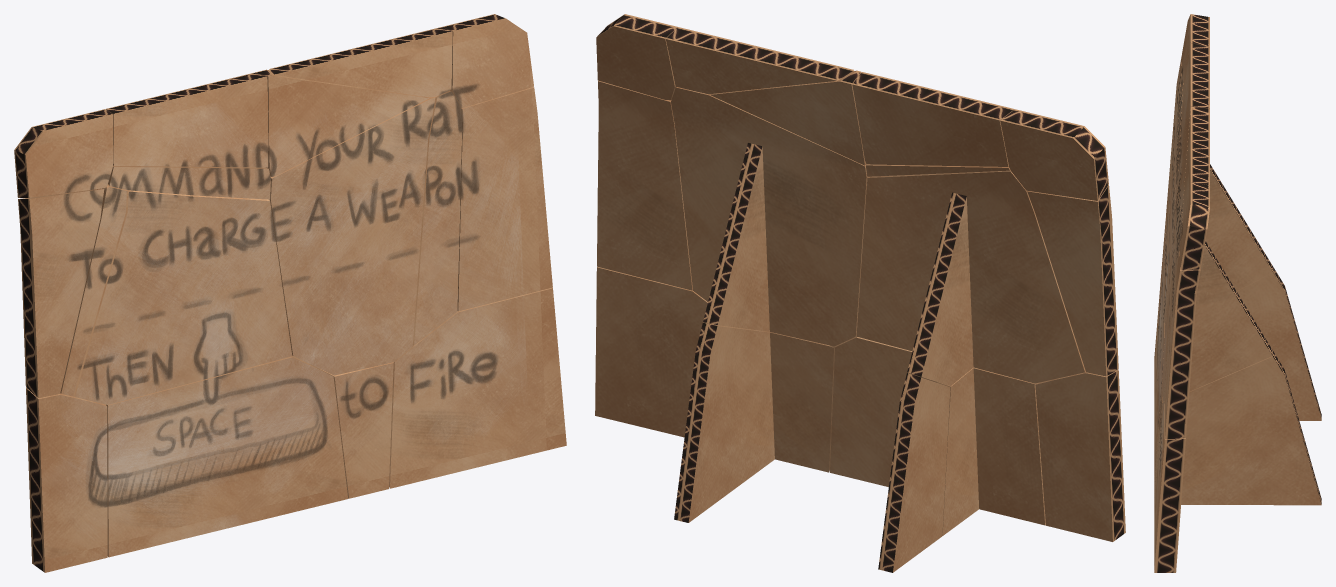
File: Carboard Weapon Tut Fractured.fbx
The picture shows the model from 3 angles, left to right: view 1: azimuth 30°, elevation 25°; view 2: azimuth 150°, elevation 25°; view 3: azimuth 270°, elevation 25°; orthographic projection. The views are drawn at different scales.
Visible parts, largest first — view 1: Cardboard Cut-Out.004_cell.011, Cardboard Cut-Out.004_cell.014, Cardboard Cut-Out.004_cell.012, Cardboard Cut-Out.004_cell.008, Cardboard Cut-Out.004_cell.015, Cardboard Cut-Out.004_cell.004, Cardboard Cut-Out.004_cell.001, Cardboard Cut-Out.004_cell.009, Cardboard Cut-Out.004_cell.003, Cardboard Cut-Out.004_cell.006, Cardboard Cut-Out.004_cell.002, Cardboard Cut-Out.004_cell.005 (+4 smaller); view 2: Cardboard Cut-Out.004_cell.014, Cardboard Cut-Out.004_cell.012, Cardboard Cut-Out.004_cell.011, Cardboard Cut-Out.004_cell.010, Cardboard Cut-Out.004_cell.015, Cardboard Cut-Out.004_cell.008, Cardboard Cut-Out.004_cell.004, Cardboard Cut-Out.004_cell.009, Cardboard Cut-Out.004_cell.001, Cardboard Cut-Out.004_cell, Cardboard Cut-Out.004_cell.002, Cardboard Cut-Out.004_cell.005 (+3 smaller); view 3: Cardboard Cut-Out.004_cell.010, Cardboard Cut-Out.004_cell.012, Cardboard Cut-Out.004_cell.014, Cardboard Cut-Out.004_cell, Cardboard Cut-Out.004_cell.015, Cardboard Cut-Out.004_cell.008, Cardboard Cut-Out.004_cell.013, Cardboard Cut-Out.004_cell.009, Cardboard Cut-Out.004_cell.002, Cardboard Cut-Out.004_cell.011, Cardboard Cut-Out.004_cell.005, Cardboard Cut-Out.004_cell.003 (+4 smaller).
Boxes of the visible parts, x1,y1,x2,y2 form: Cardboard Cut-Out.004_cell.011: [106, 356, 348, 557]; Cardboard Cut-Out.004_cell.014: [73, 188, 292, 404]; Cardboard Cut-Out.004_cell.012: [269, 93, 442, 375]; Cardboard Cut-Out.004_cell.008: [390, 288, 566, 488]; Cardboard Cut-Out.004_cell.015: [457, 87, 552, 311]; Cardboard Cut-Out.004_cell.004: [26, 388, 107, 572]; Cardboard Cut-Out.004_cell.001: [18, 189, 104, 398]; Cardboard Cut-Out.004_cell.009: [106, 72, 268, 167]; Cardboard Cut-Out.004_cell.003: [255, 69, 429, 176]; Cardboard Cut-Out.004_cell.006: [414, 90, 462, 344]; Cardboard Cut-Out.004_cell.002: [269, 27, 452, 97]; Cardboard Cut-Out.004_cell.005: [14, 109, 113, 197]; Cardboard Cut-Out.004_cell.014: [856, 171, 1085, 385]; Cardboard Cut-Out.004_cell.012: [671, 87, 869, 346]; Cardboard Cut-Out.004_cell.011: [829, 336, 1045, 535]; Cardboard Cut-Out.004_cell.010: [674, 322, 833, 522]; Cardboard Cut-Out.004_cell.015: [597, 80, 692, 290]; Cardboard Cut-Out.004_cell.008: [595, 267, 709, 437]; Cardboard Cut-Out.004_cell.004: [1035, 370, 1125, 541]; Cardboard Cut-Out.004_cell.009: [852, 72, 1014, 166]; Cardboard Cut-Out.004_cell.001: [1027, 185, 1118, 376]; Cardboard Cut-Out.004_cell: [878, 373, 950, 572]; Cardboard Cut-Out.004_cell.002: [666, 27, 853, 94]; Cardboard Cut-Out.004_cell.005: [1000, 109, 1108, 200]; Cardboard Cut-Out.004_cell.010: [1154, 350, 1321, 505]; Cardboard Cut-Out.004_cell.012: [1162, 184, 1272, 402]; Cardboard Cut-Out.004_cell.014: [1164, 110, 1273, 332]; Cardboard Cut-Out.004_cell: [1236, 267, 1321, 420]; Cardboard Cut-Out.004_cell.015: [1164, 245, 1200, 439]; Cardboard Cut-Out.004_cell.008: [1154, 402, 1185, 572]; Cardboard Cut-Out.004_cell.013: [1179, 182, 1209, 270]; Cardboard Cut-Out.004_cell.009: [1178, 43, 1209, 172]; Cardboard Cut-Out.004_cell.002: [1182, 109, 1209, 223]; Cardboard Cut-Out.004_cell.011: [1154, 266, 1164, 480]; Cardboard Cut-Out.004_cell.005: [1180, 14, 1209, 91]; Cardboard Cut-Out.004_cell.003: [1176, 106, 1209, 216].
Size of the model in its own units: 132 by 102 by 43.65.
